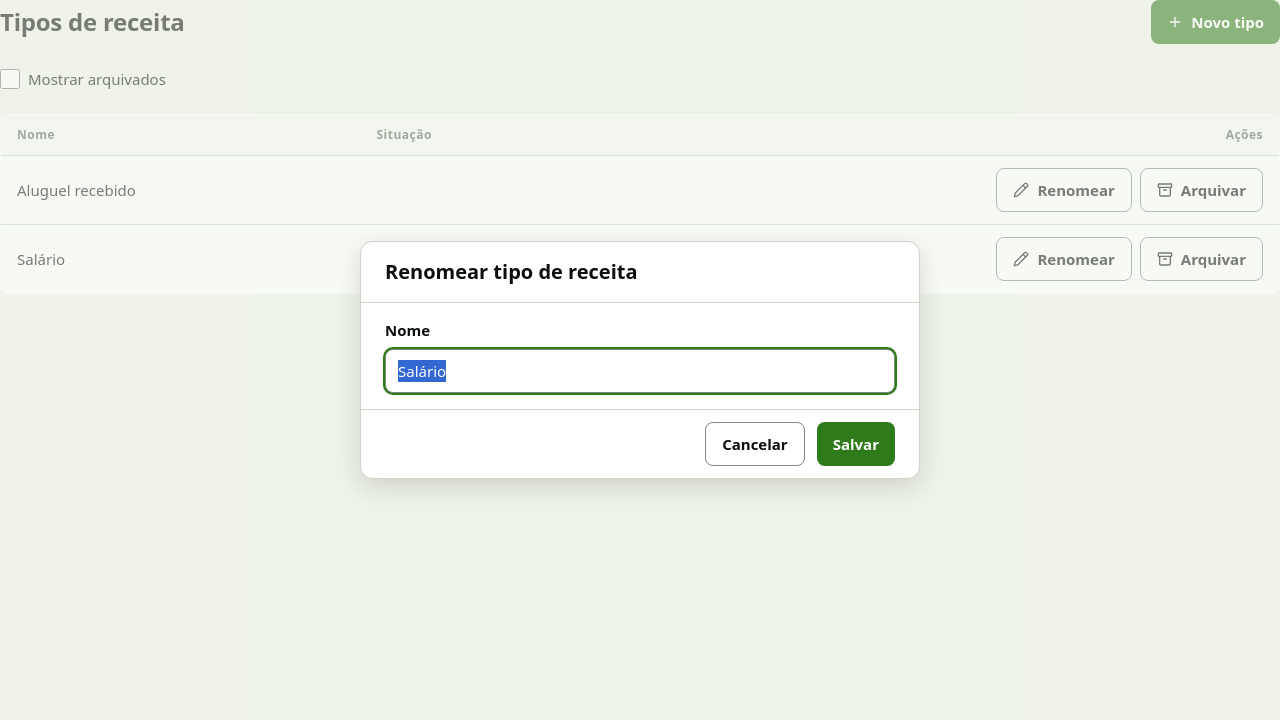
Test: EarningTypesPage › shows any other error in the form alert
Step 1. Replace the text in the field labelled "Nome" with "Salário CLT" → point(640, 371), box [385,349,895,393]
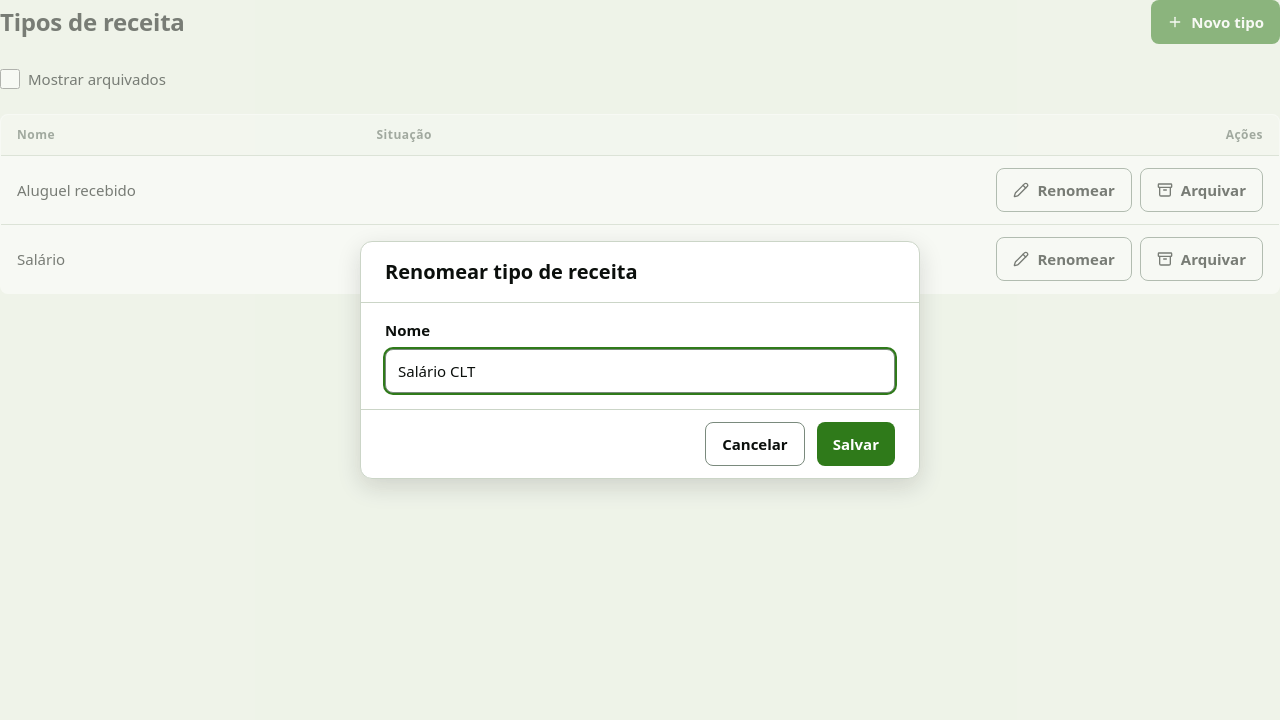
Step 2. Click the button "Salvar" → point(856, 444), box [817,422,895,466]
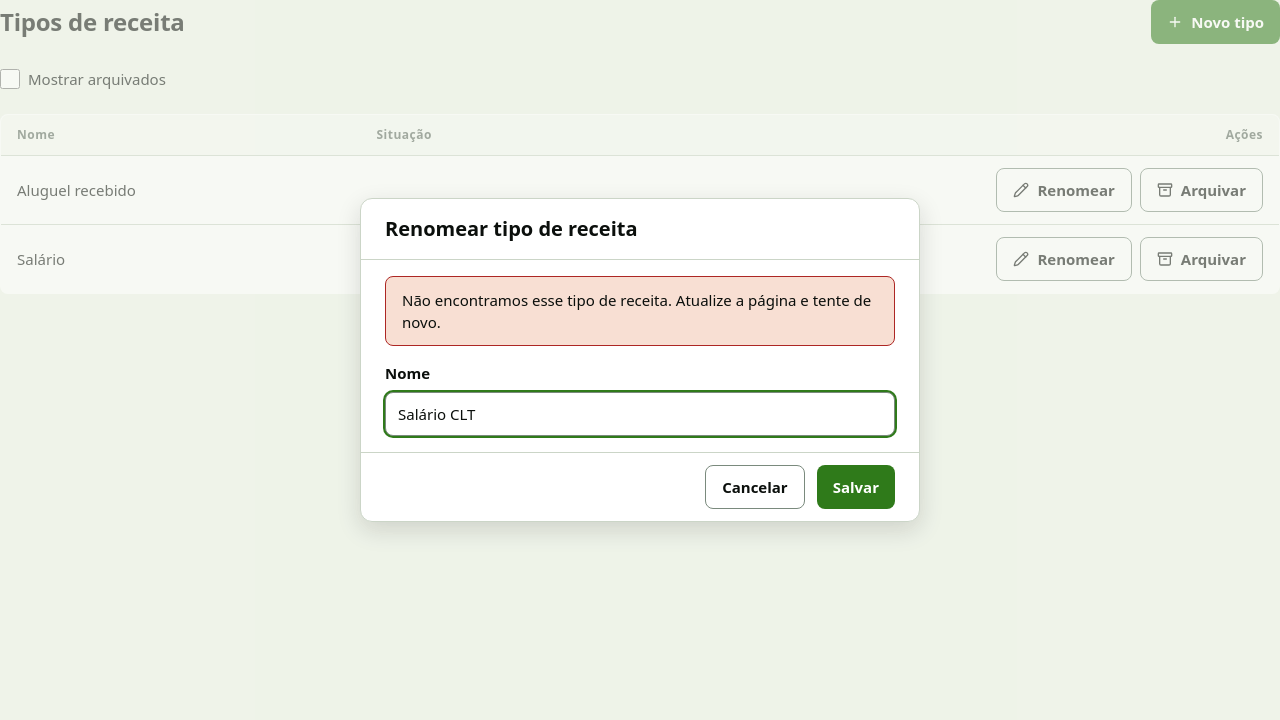
Check: the message "Não encontramos esse tipo de receita. Atualize a página e tente de novo." is shown, box [385,276,895,346]
